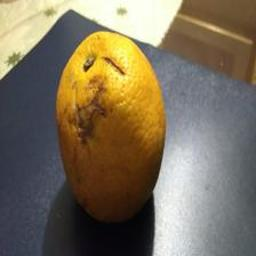Orange Semifresh: (45, 30, 167, 225)
